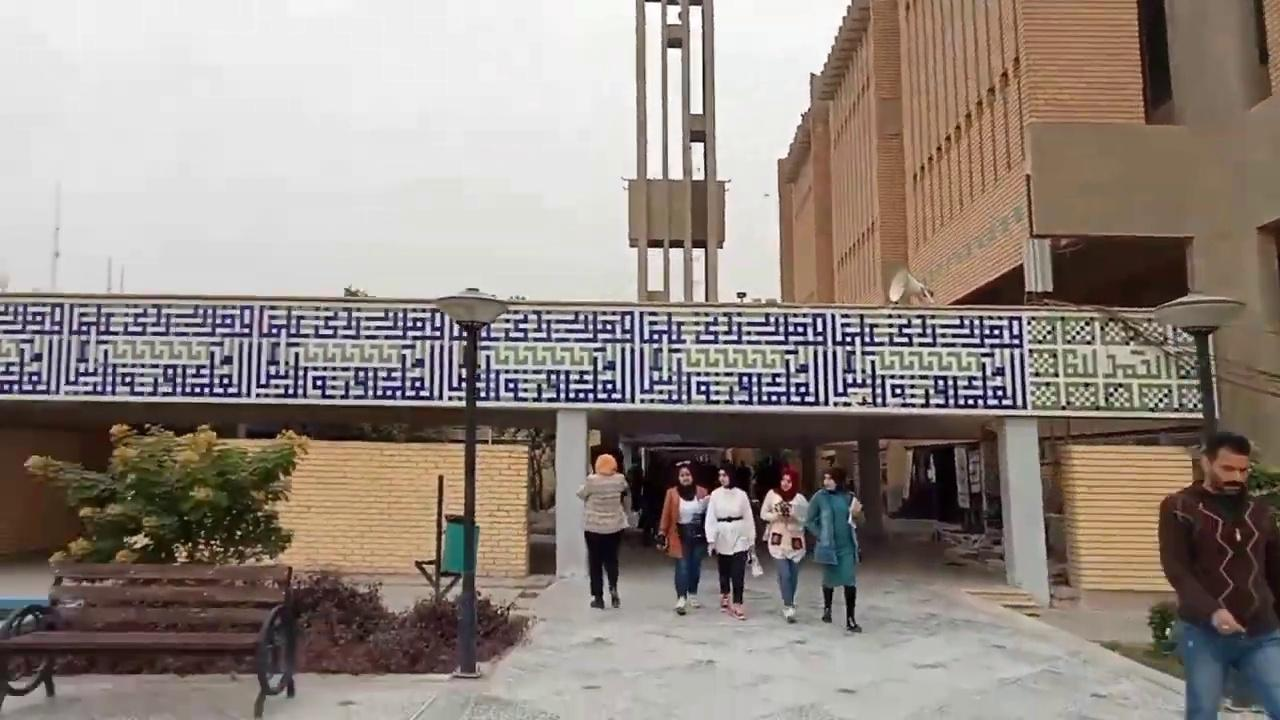person: (1157, 431, 1279, 719), (803, 466, 865, 632), (575, 453, 633, 609), (703, 463, 757, 620), (656, 462, 710, 615), (759, 466, 810, 623)
tree: (22, 418, 311, 566), (1244, 459, 1279, 528), (1146, 599, 1177, 658)
